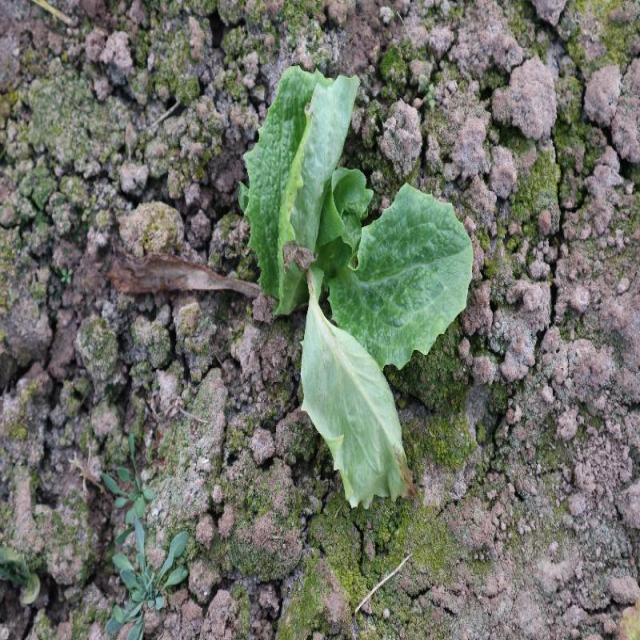crop: (243, 63, 474, 372)
